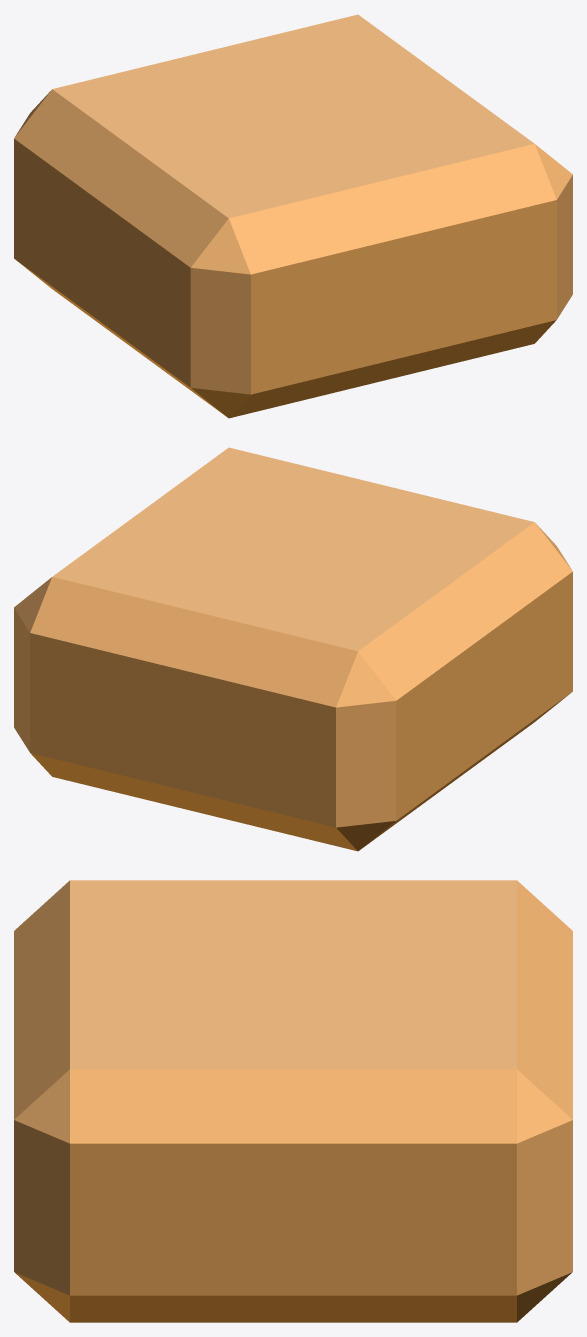
File: m_kub_clay_flatMini.FBX
3 views of the same model, one above another, from view 1: azimuth 30°, elevation 25°; view 2: azimuth 150°, elevation 25°; view 3: azimuth 270°, elevation 25° (orthographic). The views are drawn at different scales.
Parts seen in each view (by area): view 1: m_kub_clay_flatMini; view 2: m_kub_clay_flatMini; view 3: m_kub_clay_flatMini.
Boxes of the visible parts, x1,y1,x2,y2 form: m_kub_clay_flatMini: (14,14,572,418); m_kub_clay_flatMini: (14,447,572,851); m_kub_clay_flatMini: (14,880,572,1322).
Size of the model in its own units: 1 by 0.5 by 1.
